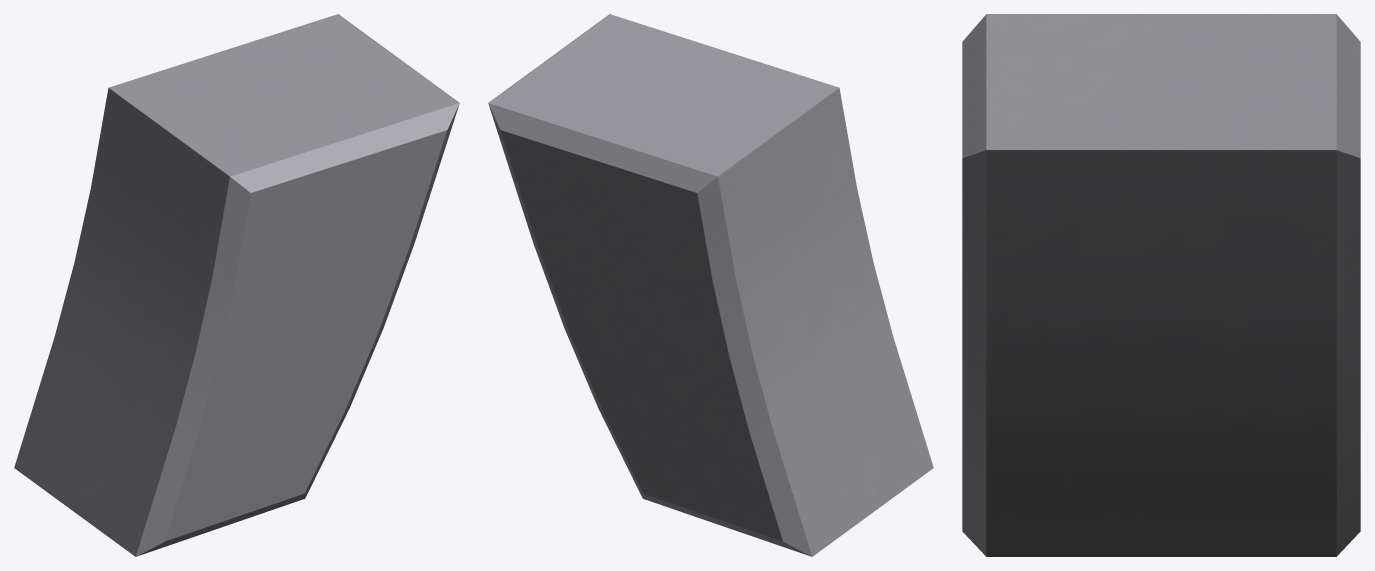
The model's file is comma.FBX.
3 views of the same model, side by side, from view 1: azimuth 30°, elevation 25°; view 2: azimuth 150°, elevation 25°; view 3: azimuth 270°, elevation 25° (orthographic). The views are drawn at different scales.
Visible parts, largest first — view 1: comma; view 2: comma; view 3: comma.
Part boxes in pixels (x1=…): comma: x1=14, y1=14, x2=459, y2=556; comma: x1=488, y1=14, x2=933, y2=556; comma: x1=962, y1=14, x2=1360, y2=556.
Bounding box in the file's own units: 44.65 × 49.35 × 33.
